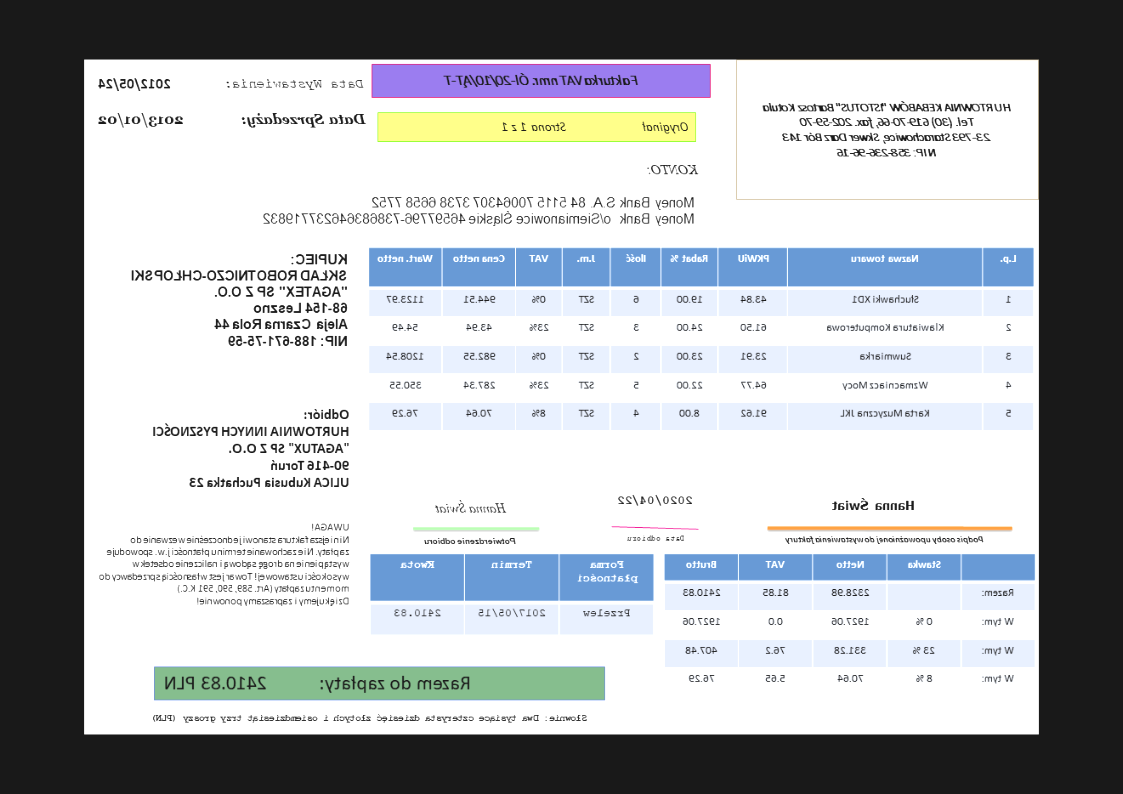Table: (366, 246, 1035, 433), (661, 551, 1038, 698), (370, 552, 655, 637)
TextBox: (96, 519, 353, 609), (129, 249, 351, 349), (151, 405, 352, 491), (260, 190, 697, 228), (760, 99, 1014, 161), (162, 670, 474, 694), (151, 710, 589, 727), (499, 117, 692, 137), (440, 71, 643, 88), (780, 532, 986, 546), (239, 110, 367, 132), (224, 77, 367, 93), (93, 111, 185, 130), (615, 490, 696, 510), (829, 496, 919, 513), (94, 75, 174, 94), (432, 498, 508, 516), (422, 535, 520, 547), (644, 159, 701, 178), (625, 531, 687, 543)
